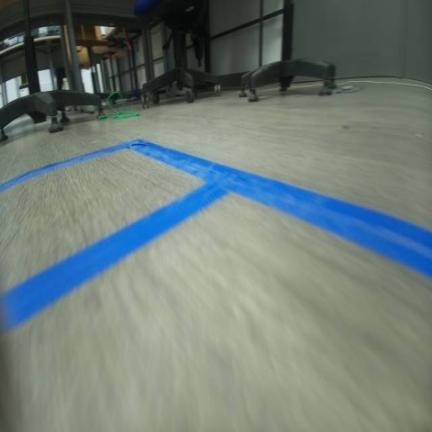place: (0, 163, 431, 430), (0, 135, 256, 336)
